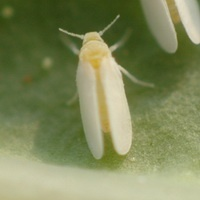insect: (59, 15, 153, 158)
